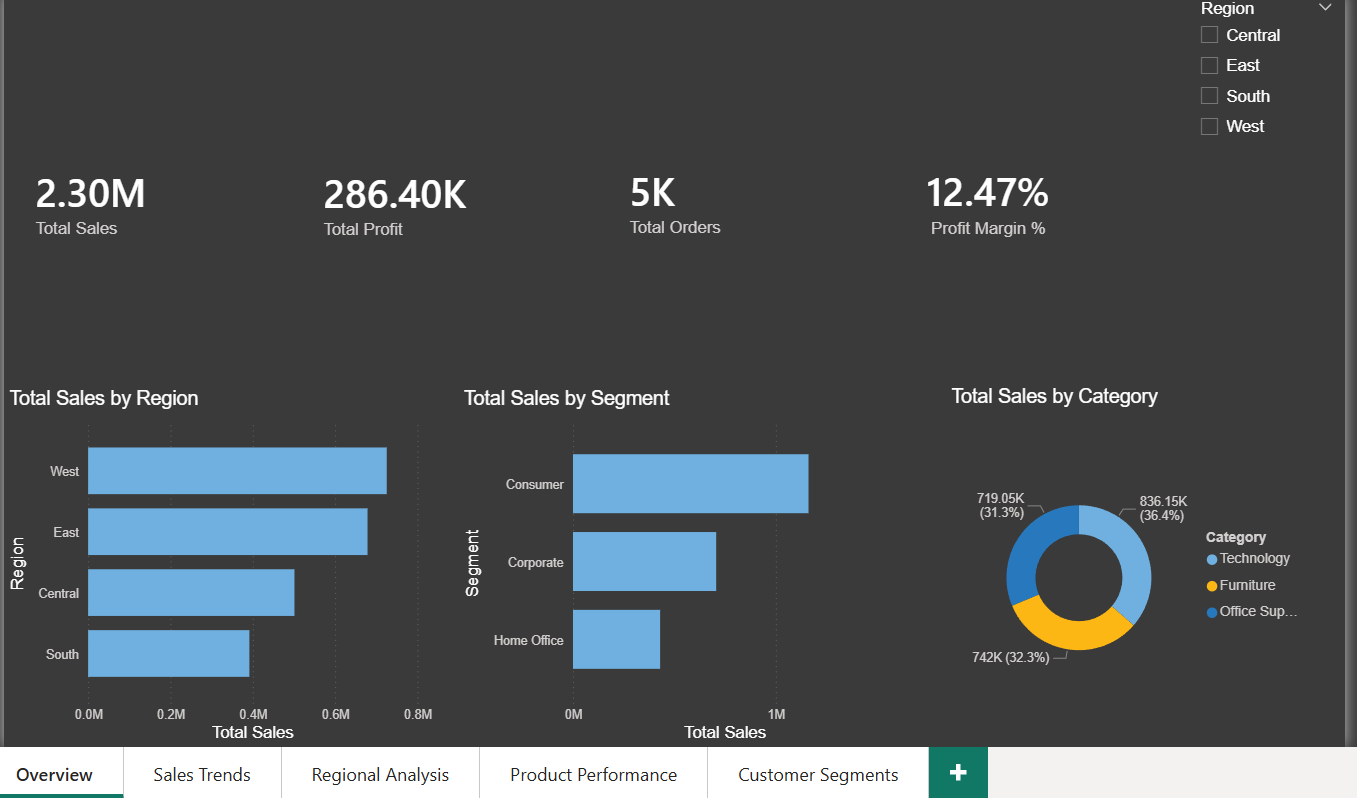

The dashboard page shown, as its layout file describes it:
{"tool":"powerbi","page":{"name":"Overview","canvas":[1280,720],"ordinal":0},"visuals":[{"type":"cardVisual","fields":{"Data":["Sample - Superstore.Total Sales"]},"box":[0,58.6,279.6,279.6],"z":0},{"type":"cardVisual","fields":{"Data":["Sample - Superstore.Total Profit"]},"box":[274.5,58.6,279.6,281.2],"z":1000},{"type":"cardVisual","fields":{"Data":["Sample - Superstore.Total Orders"]},"box":[567.5,123.9,279.6,149],"z":2000},{"type":"card","fields":{"Values":["Sample - Superstore.Profit Margin %"]},"box":[800.2,123.9,277.9,149],"z":3000},{"type":"donutChart","fields":{"Category":["Sample - Superstore.Category"],"Y":["Sample - Superstore.Total Sales"]},"box":[898.9,375,358.2,344.8],"z":4000},{"type":"clusteredBarChart","fields":{"Category":["Sample - Superstore.Region"],"Y":["Sample - Superstore.Total Sales"]},"box":[0,376.6,413.5,343.2],"z":5000},{"type":"clusteredBarChart","fields":{"Category":["Sample - Superstore.Segment"],"Y":["Sample - Superstore.Total Sales"]},"box":[433.6,376.6,413.5,343.2],"z":6000},{"type":"slicer","fields":{"Values":["Sample - Superstore.Region"]},"box":[1129.9,0,150.7,197.5],"z":6002}]}

Visuals, with their boxes on the page's 1280x720 design canvas (x1, y1, x2, y2). These are canvas units, not pixel positions in the 1357x798 screenshot, which may show the page scaled, cropped or inside an application window:
cardVisual - Sample - Superstore.Total Sales: bbox=[0, 59, 280, 338]
cardVisual - Sample - Superstore.Total Profit: bbox=[274, 59, 554, 340]
cardVisual - Sample - Superstore.Total Orders: bbox=[568, 124, 847, 273]
card - Sample - Superstore.Profit Margin %: bbox=[800, 124, 1078, 273]
donutChart - Sample - Superstore.Category x Sample - Superstore.Total Sales: bbox=[899, 375, 1257, 720]
clusteredBarChart - Sample - Superstore.Region x Sample - Superstore.Total Sales: bbox=[0, 377, 414, 720]
clusteredBarChart - Sample - Superstore.Segment x Sample - Superstore.Total Sales: bbox=[434, 377, 847, 720]
slicer - Sample - Superstore.Region: bbox=[1130, 0, 1281, 198]
